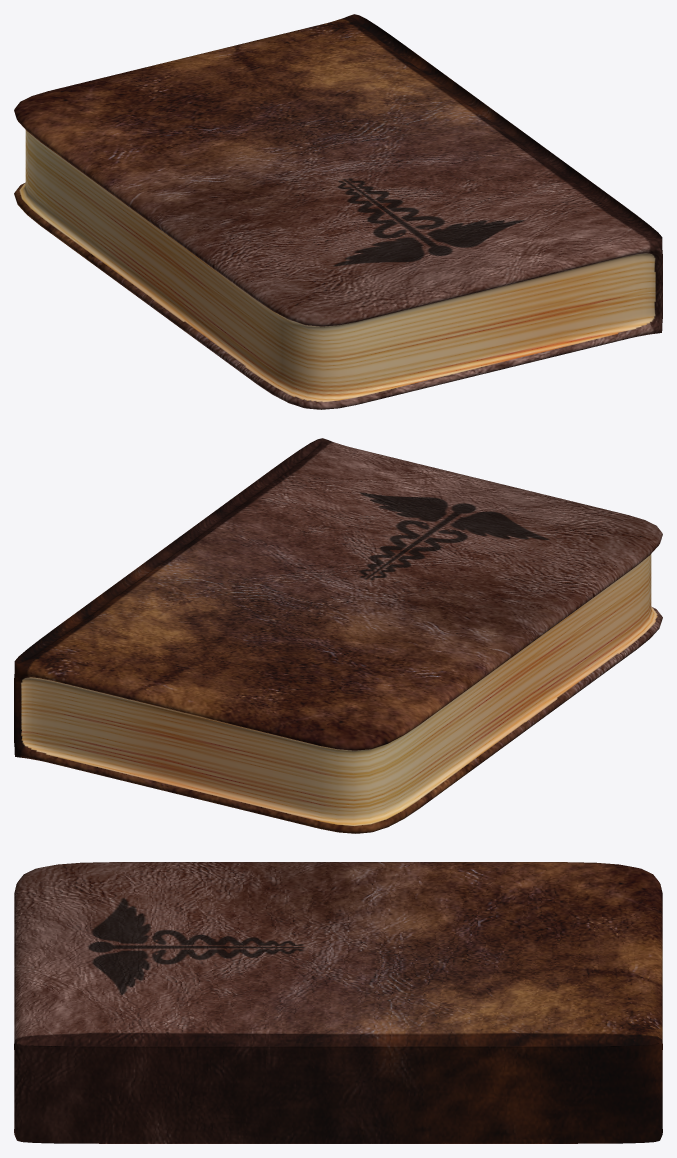
File: Book.fbx
3 renders of one model, top to bottom at view 1: azimuth 30°, elevation 25°; view 2: azimuth 150°, elevation 25°; view 3: azimuth 270°, elevation 25°, orthographic. The views are drawn at different scales.
Visible parts, largest first — view 1: Subdivision_Surface_2; view 2: Subdivision_Surface_2; view 3: Subdivision_Surface_2.
Boxes of the visible parts, x1,y1,x2,y2 form: Subdivision_Surface_2: [14, 14, 662, 409]; Subdivision_Surface_2: [14, 438, 662, 833]; Subdivision_Surface_2: [14, 862, 662, 1143].
Size of the model in its own units: 118 by 30.78 by 173.
1 material, 1 textured.
